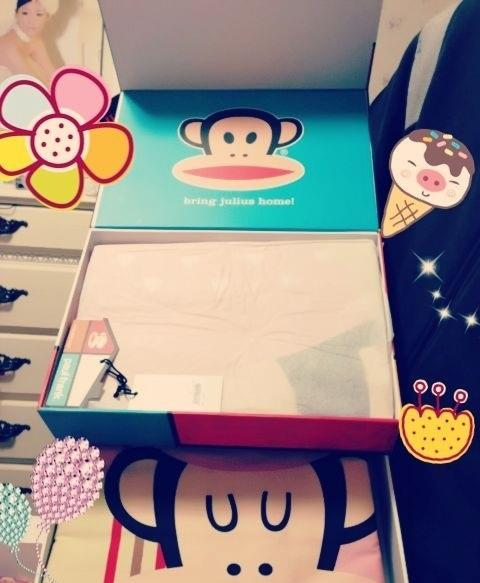Paul_Frank_Julius: (173, 102, 306, 193)
